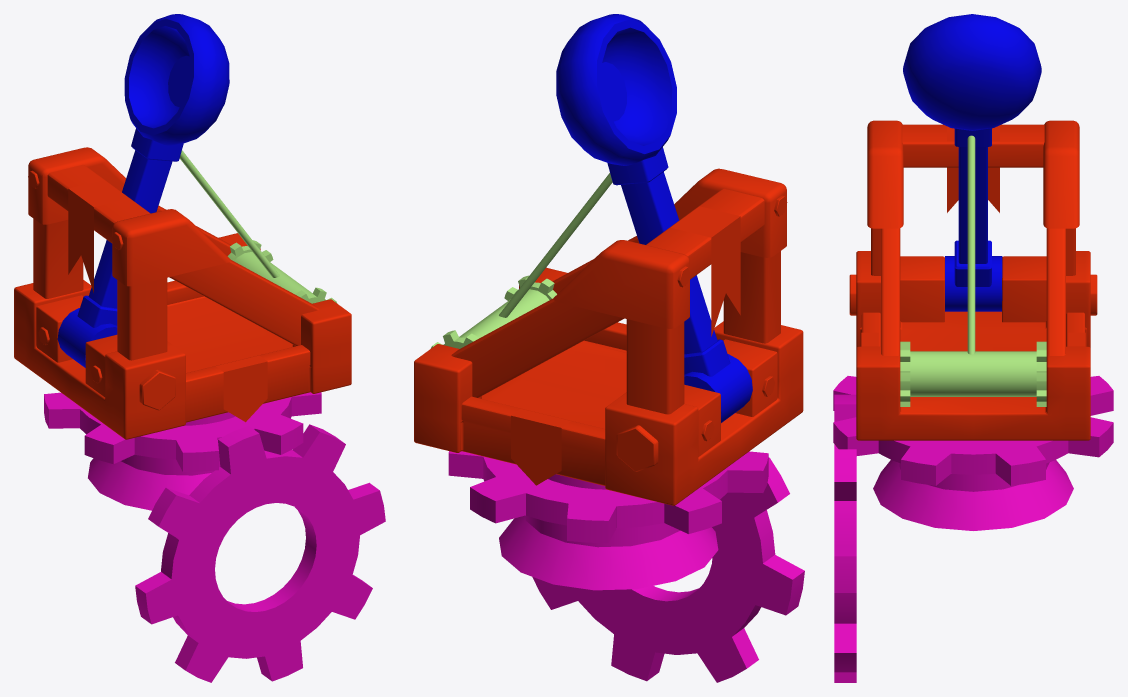
Rendered from gear.fbx.
3 renders of one model, left to right at view 1: azimuth 30°, elevation 25°; view 2: azimuth 150°, elevation 25°; view 3: azimuth 270°, elevation 25°, orthographic. The views are drawn at different scales.
Visible parts, largest first — view 1: Base, Gear.001, Shooter, Gear.005, Base.001, Valve, Cylinder; view 2: Base, Shooter, Gear.001, Gear.005, Base.001, Valve, Cylinder; view 3: Base, Shooter, Gear.005, Base.001, Valve, Gear.001, Cylinder.
Part boxes in pixels (<box>): Base: <box>14,147,351,439</box>; Gear.001: <box>135,424,385,682</box>; Shooter: <box>57,14,229,367</box>; Gear.005: <box>44,392,321,472</box>; Base.001: <box>88,412,235,510</box>; Valve: <box>227,240,337,303</box>; Cylinder: <box>179,150,279,277</box>; Base: <box>414,168,803,505</box>; Shooter: <box>556,14,752,422</box>; Gear.001: <box>532,457,804,682</box>; Gear.005: <box>448,451,768,543</box>; Base.001: <box>499,474,718,590</box>; Valve: <box>431,275,556,348</box>; Cylinder: <box>499,173,612,317</box>; Base: <box>849,120,1097,440</box>; Shooter: <box>903,14,1041,311</box>; Gear.005: <box>833,376,1113,485</box>; Base.001: <box>873,460,1073,530</box>; Valve: <box>900,341,1046,406</box>; Gear.001: <box>834,394,856,682</box>; Cylinder: <box>967,135,975,354</box>.
Bounding box in the file's own units: 2.73 × 6.4 × 2.51.
